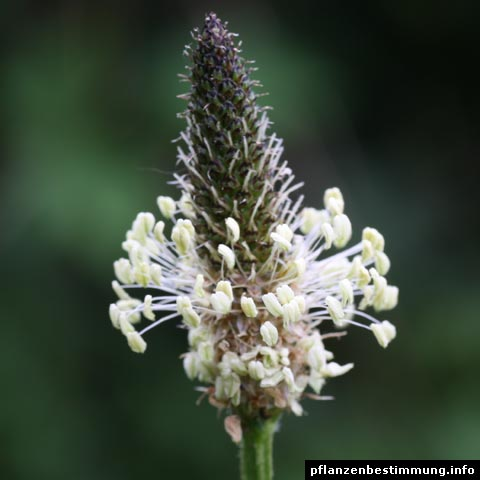buckhorn plantain: (143, 7, 399, 477)
